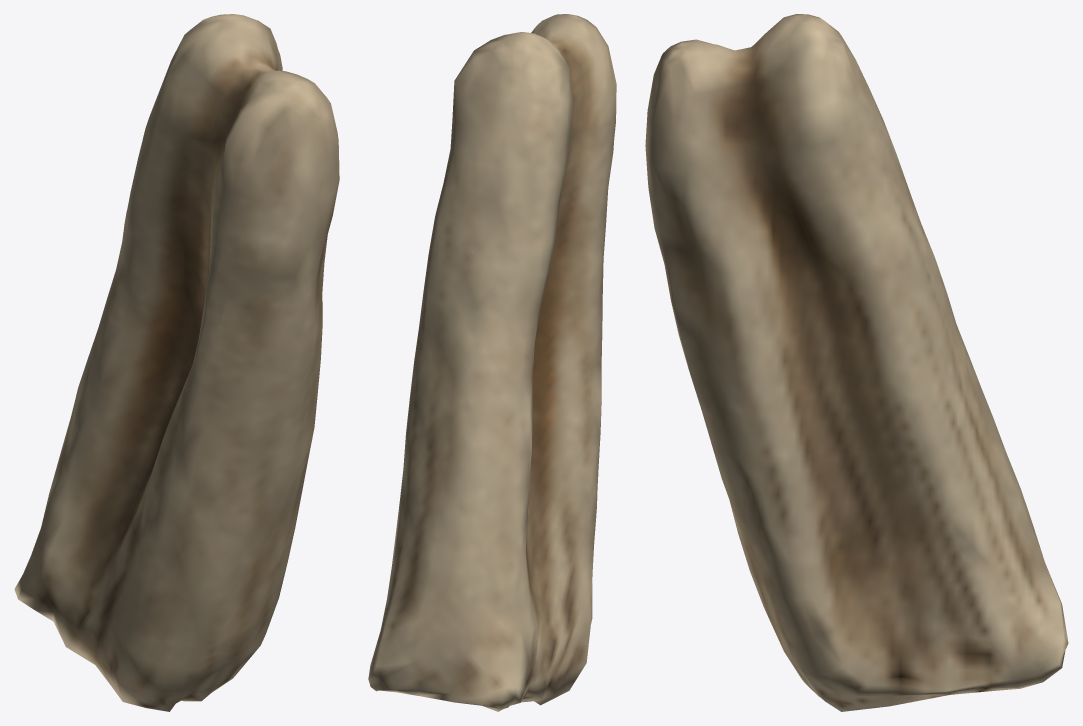
Rendered from Maxilary_Molar5.glb.
The picture shows the model from 3 angles, left to right: view 1: azimuth 30°, elevation 25°; view 2: azimuth 150°, elevation 25°; view 3: azimuth 270°, elevation 25°; orthographic projection. The views are drawn at different scales.
Visible parts, largest first — view 1: Group14960_Mesh.025; view 2: Group14960_Mesh.025; view 3: Group14960_Mesh.025.
Part boxes in pixels (left/top/right/bottom): Group14960_Mesh.025: left=14, top=14, right=339, bottom=711; Group14960_Mesh.025: left=368, top=14, right=616, bottom=711; Group14960_Mesh.025: left=645, top=14, right=1068, bottom=711.
Size of the model in its own units: 0.0198 by 0.0757 by 0.0419.
Materials: 1 (1 with a texture image).
